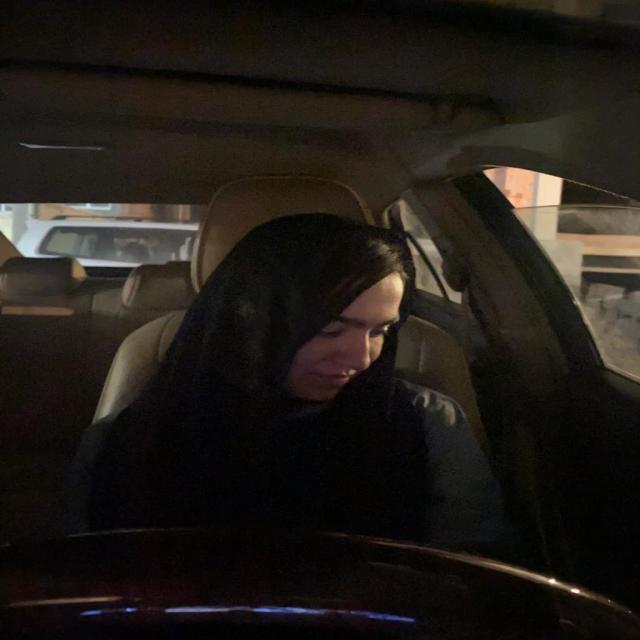person: (215, 205, 416, 412)
